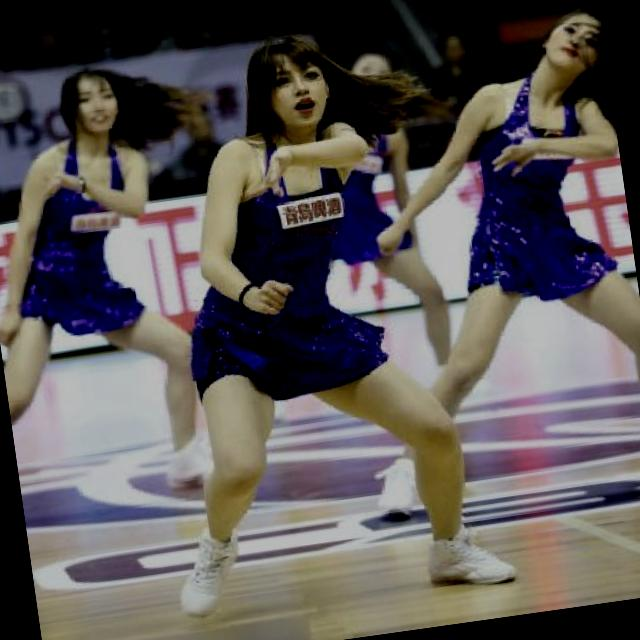Person: (154, 19, 544, 631), (387, 0, 640, 403)
